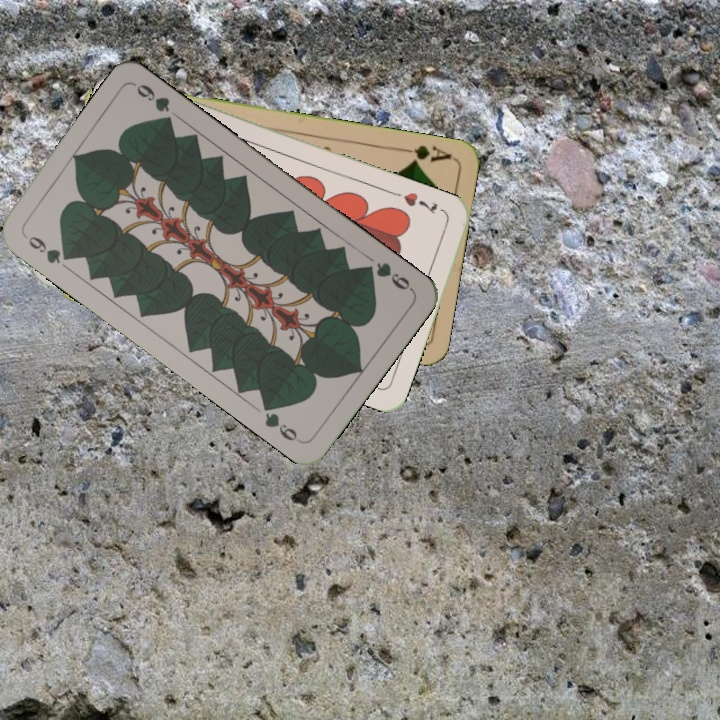G9: (359, 258, 415, 294), (20, 231, 76, 266)
GA: (395, 141, 454, 167)
H7: (399, 188, 440, 217)
